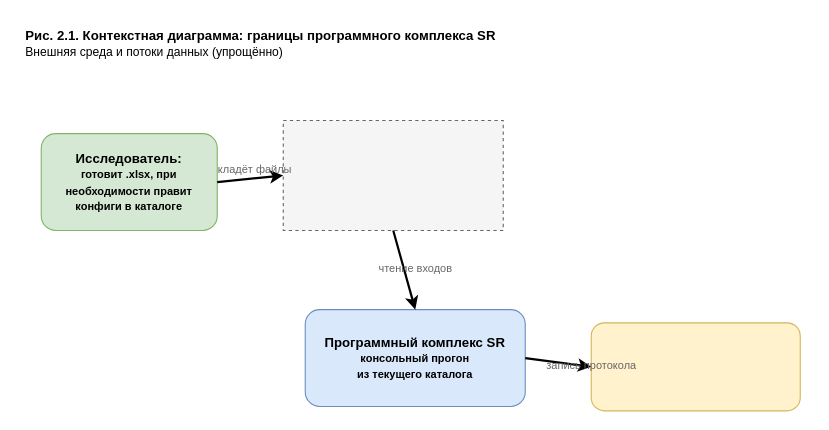
Image size: 829x430. Some labels were removed from this diagram. The box of each missing label's shape, as (x1, y1, x2, y2) in pixels:
result.txt протокол: формулы, метрики, при порогах - сводка PASS/FAIL: (590, 322, 800, 411)
Рабочий каталог *.xlsx gp_settings.json (опц.) base_functions.txt (опц.): (282, 119, 503, 230)
